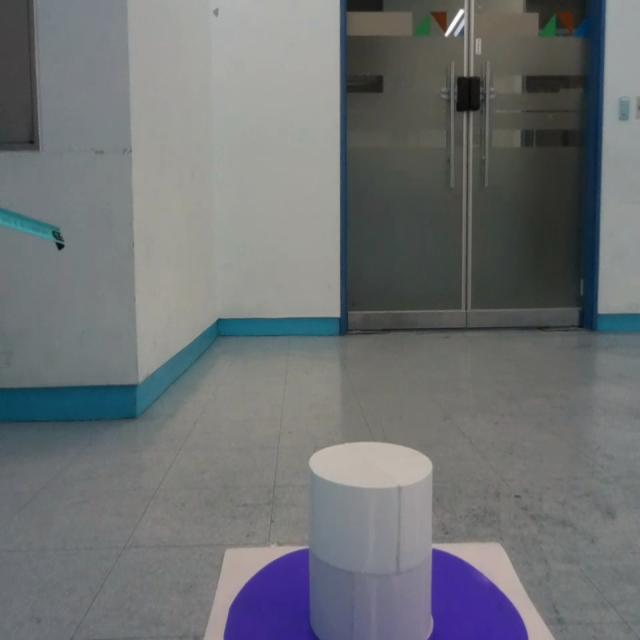cylinder: (306, 443, 434, 639)
